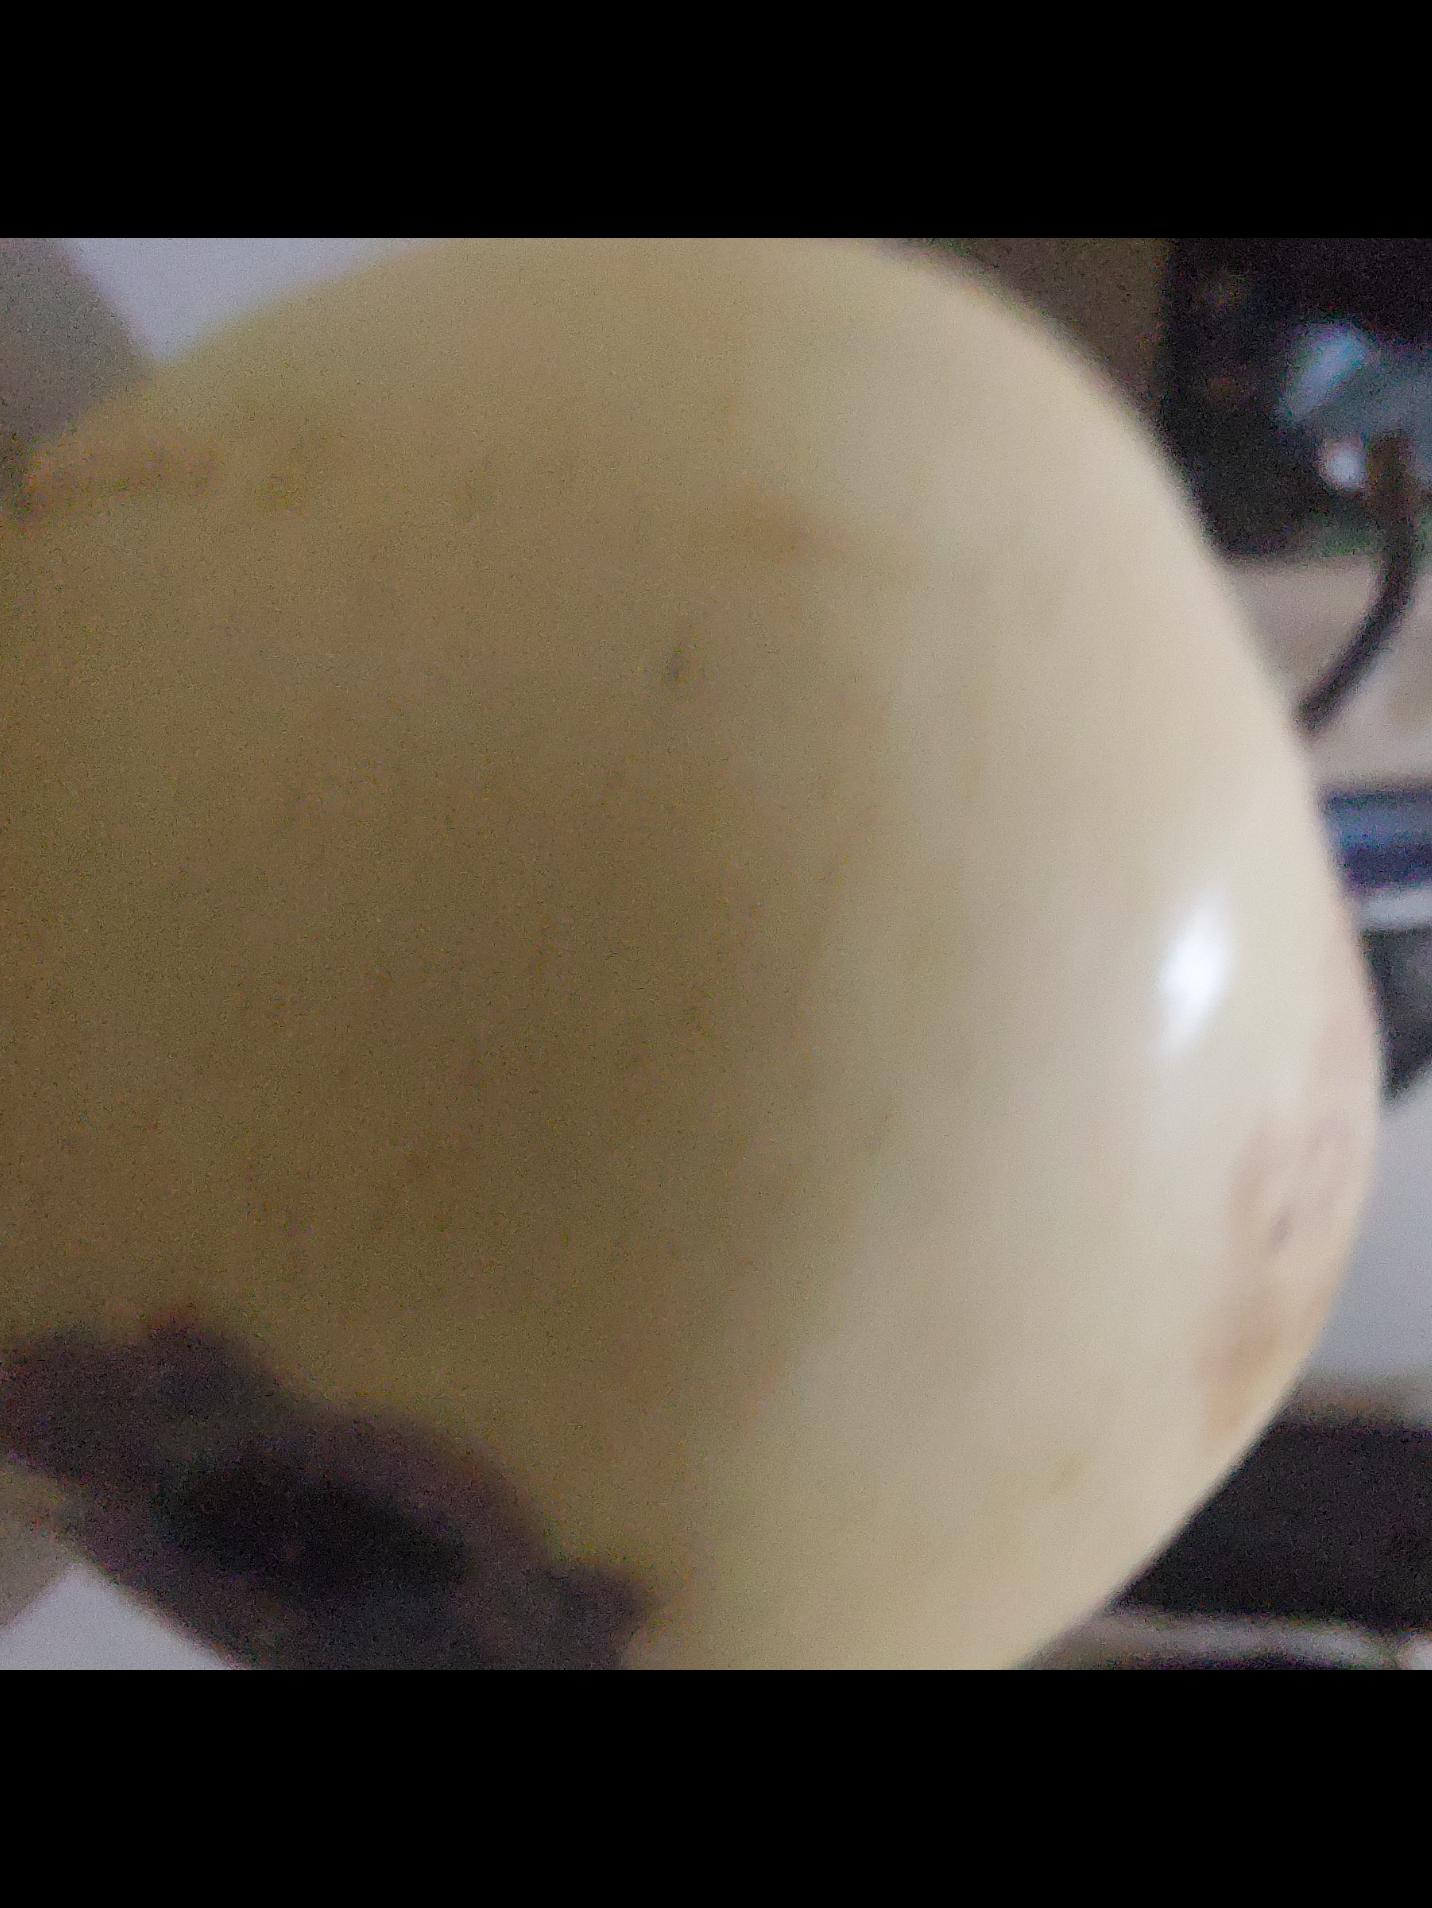Bad Pear: (0, 238, 1397, 1670)
